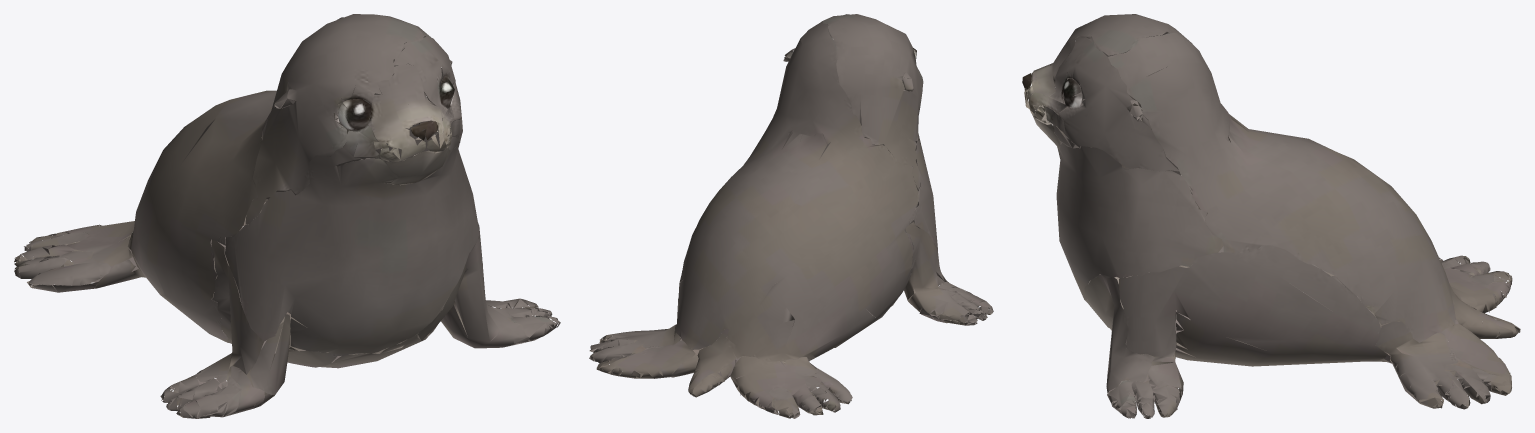
File: seal.glb
The picture shows the model from 3 angles, left to right: view 1: azimuth 30°, elevation 25°; view 2: azimuth 150°, elevation 25°; view 3: azimuth 270°, elevation 25°; orthographic projection. The views are drawn at different scales.
Visible parts, largest first — view 1: model; view 2: model; view 3: model.
Part boxes in pixels (bbox=[...]): model: bbox=[14, 14, 560, 418]; model: bbox=[589, 14, 993, 418]; model: bbox=[1022, 14, 1520, 418].
Size of the model in its own units: 1.52 by 1.34 by 1.9.
1 material, 1 textured.
